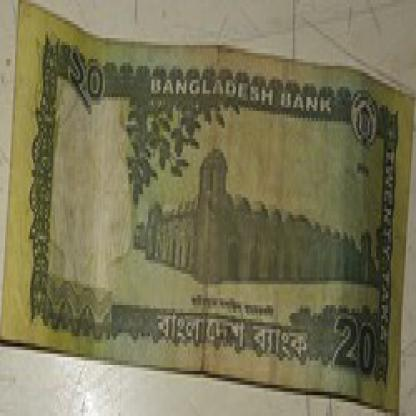Twenty: (331, 305, 381, 385), (63, 38, 107, 118)
